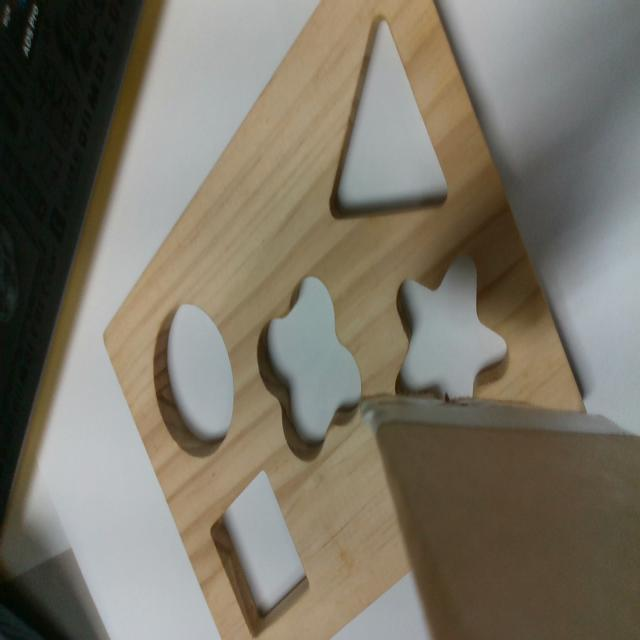circle: (154, 300, 236, 459)
flower: (255, 279, 363, 461)
square: (209, 468, 310, 639)
star: (395, 260, 511, 406)
triangle: (327, 18, 451, 225)
